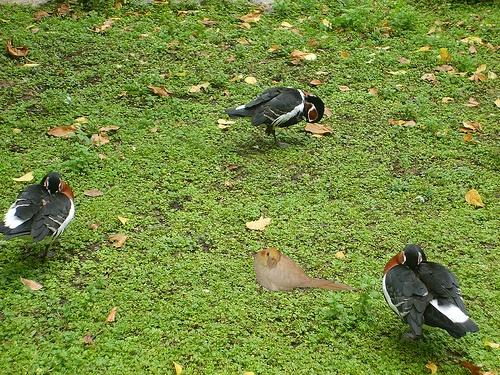tampered: (254, 247, 361, 291)
